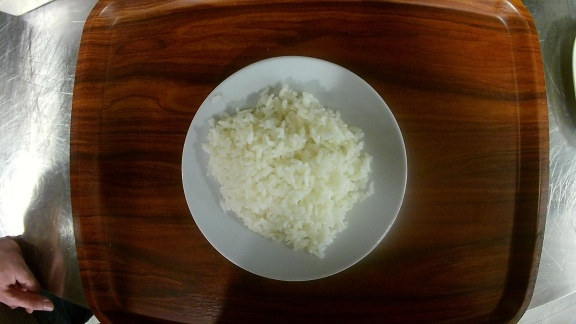pilav: (181, 55, 409, 281)
